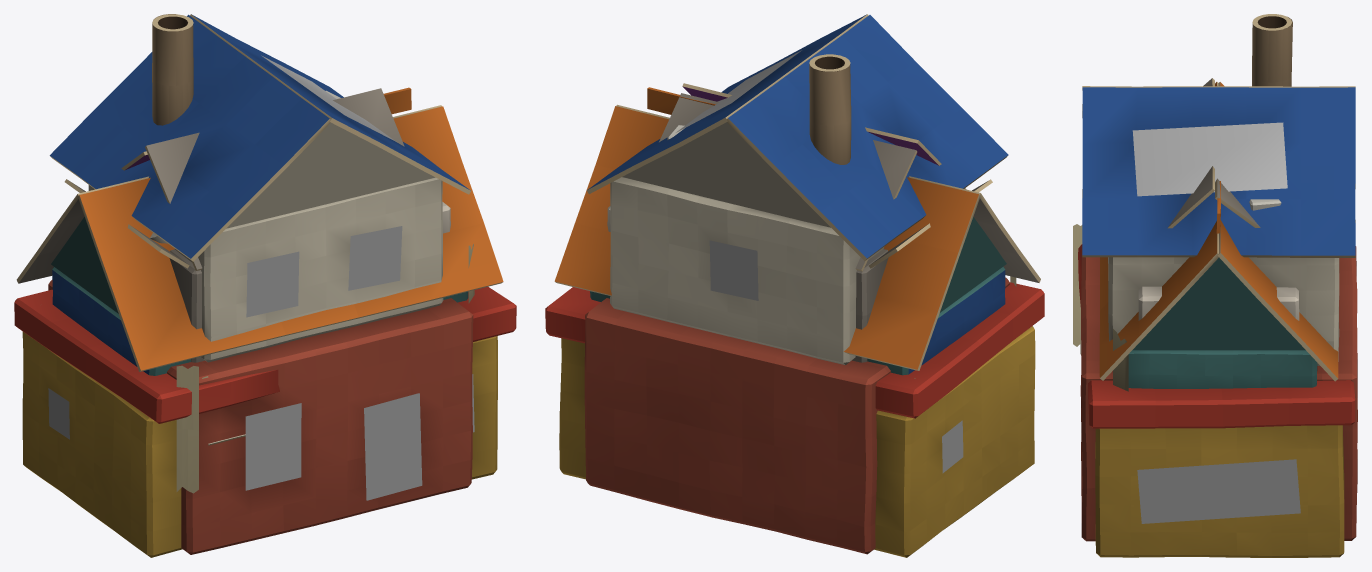
The model's file is houses.glb.
3 renders of one model, left to right at view 1: azimuth 30°, elevation 25°; view 2: azimuth 150°, elevation 25°; view 3: azimuth 270°, elevation 25°, orthographic. The views are drawn at different scales.
Parts seen in each view (by area): view 1: house_stack, house_shoebox, house_cereal, house_insideout, house_cartons; view 2: house_stack, house_shoebox, house_cereal, house_insideout, house_cartons; view 3: house_stack, house_shoebox, house_cereal, house_insideout, house_cartons.
Boxes of the visible parts, <box> form: house_stack: <box>48,14,473,554</box>; house_shoebox: <box>14,287,516,557</box>; house_cereal: <box>16,90,503,445</box>; house_insideout: <box>64,88,404,362</box>; house_cartons: <box>150,87,450,243</box>; house_stack: <box>584,14,1016,554</box>; house_shoebox: <box>545,282,1044,557</box>; house_cereal: <box>554,104,1040,375</box>; house_insideout: <box>659,83,992,362</box>; house_cartons: <box>607,87,715,231</box>; house_stack: <box>1073,14,1357,541</box>; house_shoebox: <box>1078,244,1355,557</box>; house_cereal: <box>1080,82,1338,391</box>; house_insideout: <box>1167,78,1260,228</box>; house_cartons: <box>1138,181,1299,320</box>.
Size of the model in its own units: 0.9382 by 1.06 by 0.6426.
